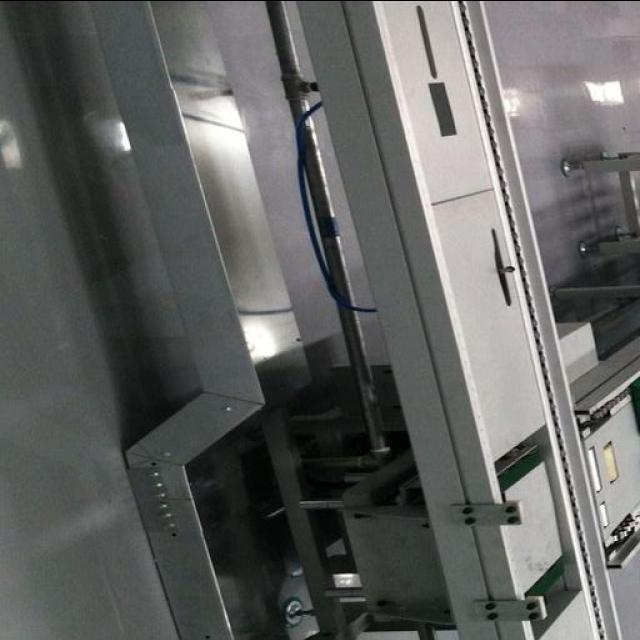conveyor: (376, 0, 628, 640)
